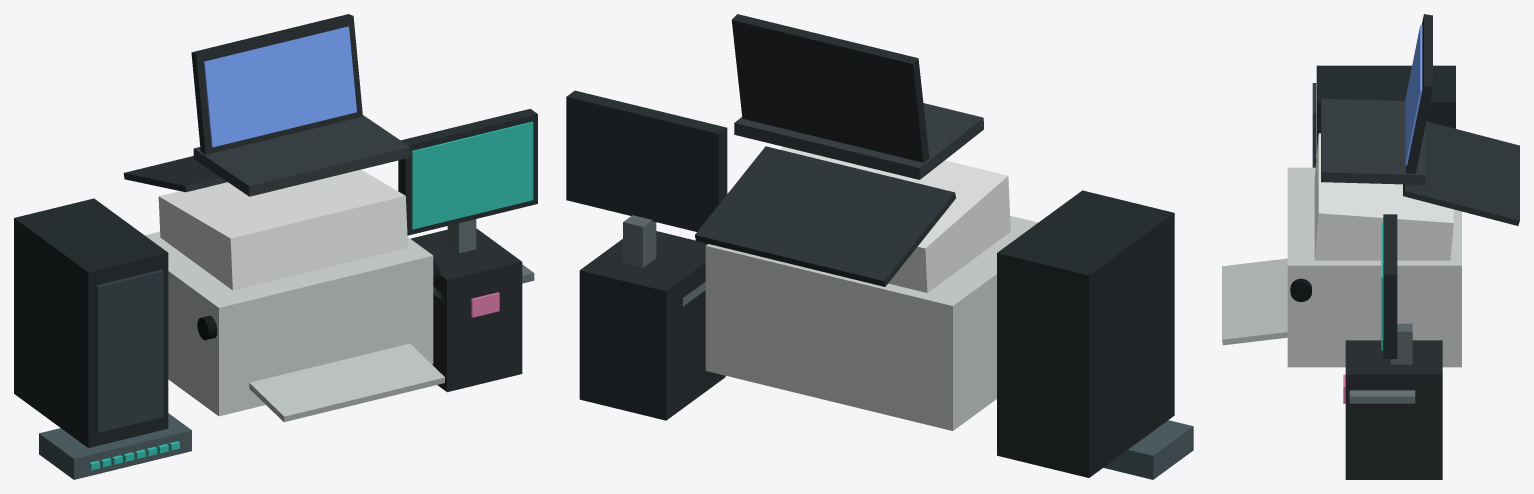
The model's file is orthographic-pilot.glb.
3 renders of one model, left to right at view 1: azimuth 30°, elevation 25°; view 2: azimuth 150°, elevation 25°; view 3: azimuth 270°, elevation 25°, orthographic. The views are drawn at different scales.
Parts seen in each view (by area): view 1: ClearCount_Scanner_Base, ClearCount_Server_Tower, ClearCount_Scanner_Upper_Housing, ClearCount_Application_Surface, ClearCount_APC_UPS, ClearCount_Server_Front, ClearCount_CountStation_Monitor_Display, ClearCount_Laptop_Base, ClearCount_Scanner_Output_Tray, ClearCount_Laptop_Screen, ClearCount_Closed_Network_Switch, ClearCount_CountStation_Monitor_Housing (+3 smaller); view 2: ClearCount_Server_Tower, ClearCount_Scanner_Base, ClearCount_Scanner_Input_Tray, ClearCount_APC_UPS, ClearCount_Laptop_Screen, ClearCount_CountStation_Monitor_Housing, ClearCount_Scanner_Upper_Housing, ClearCount_Laptop_Base, ClearCount_Closed_Network_Switch, ClearCount_CountStation_Stand; view 3: ClearCount_Scanner_Base, ClearCount_APC_UPS, ClearCount_Scanner_Upper_Housing, ClearCount_Scanner_Input_Tray, ClearCount_Laptop_Base, ClearCount_Scanner_Output_Tray, ClearCount_Server_Tower, ClearCount_CountStation_Monitor_Housing, ClearCount_Laptop_Screen, ClearCount_Application_Surface, ClearCount_CountStation_Base, ClearCount_CountStation_Stand (+2 smaller).
Part boxes in pixels (x1,y1,x2,y2): ClearCount_Scanner_Base: (145,231,433,416); ClearCount_Server_Tower: (14,198,168,447); ClearCount_Scanner_Upper_Housing: (158,169,407,290); ClearCount_Application_Surface: (203,26,356,147); ClearCount_APC_UPS: (410,228,522,392); ClearCount_Server_Front: (95,269,163,432); ClearCount_CountStation_Monitor_Display: (411,121,533,229); ClearCount_Laptop_Base: (193,115,410,196); ClearCount_Scanner_Output_Tray: (249,343,445,422); ClearCount_Laptop_Screen: (191,14,362,154); ClearCount_Closed_Network_Switch: (39,413,191,479); ClearCount_CountStation_Monitor_Housing: (398,108,537,235); ClearCount_Server_Tower: (997,190,1174,477); ClearCount_Scanner_Base: (705,216,1037,430); ClearCount_Scanner_Input_Tray: (695,146,955,286); ClearCount_APC_UPS: (579,231,725,420); ClearCount_Laptop_Screen: (731,14,929,162); ClearCount_CountStation_Monitor_Housing: (566,90,727,231); ClearCount_Scanner_Upper_Housing: (780,147,1010,292); ClearCount_Laptop_Base: (734,103,983,179); ClearCount_Closed_Network_Switch: (1103,420,1193,479); ClearCount_CountStation_Stand: (623,215,656,267); ClearCount_Scanner_Base: (1287,167,1461,367); ClearCount_APC_UPS: (1345,340,1442,479); ClearCount_Scanner_Upper_Housing: (1314,133,1453,260); ClearCount_Scanner_Input_Tray: (1403,121,1519,225); ClearCount_Laptop_Base: (1321,98,1425,184); ClearCount_Scanner_Output_Tray: (1222,258,1287,345); ClearCount_Server_Tower: (1316,65,1455,154); ClearCount_CountStation_Monitor_Housing: (1383,214,1397,358); ClearCount_Laptop_Screen: (1406,14,1432,173); ClearCount_Application_Surface: (1405,24,1422,165); ClearCount_CountStation_Base: (1349,390,1415,403); ClearCount_CountStation_Stand: (1391,323,1412,364).
Bounding box in the file's own units: 7 × 4.79 × 3.85.
